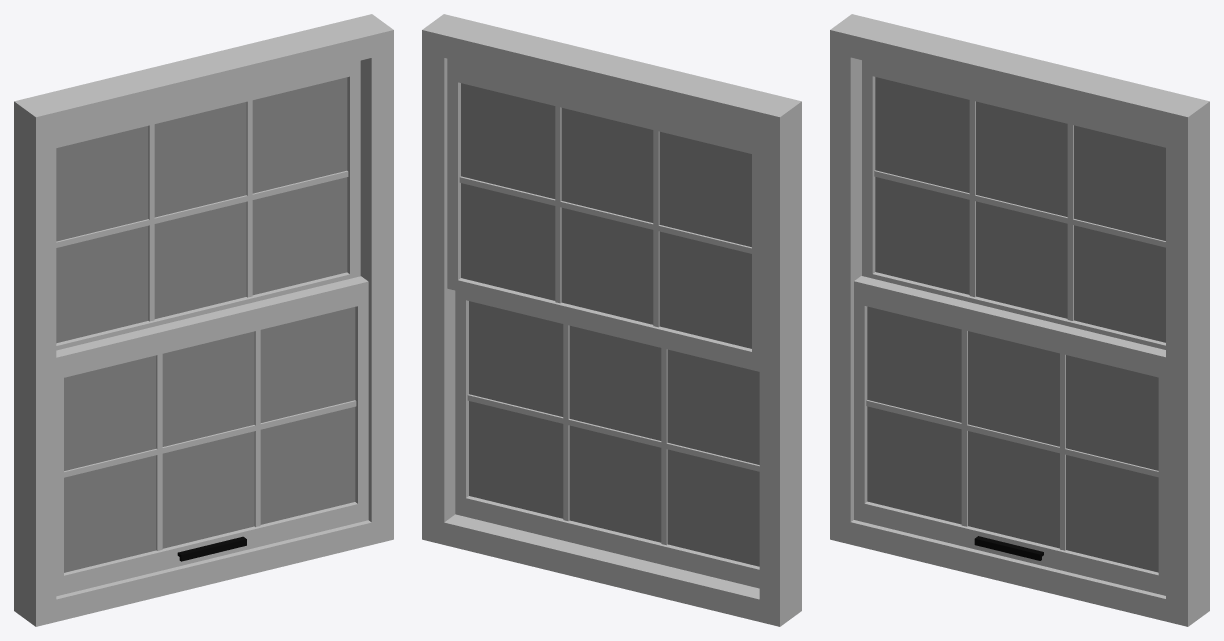
Rendered from Window 7.FBX.
The picture shows the model from 3 angles, left to right: view 1: azimuth 30°, elevation 25°; view 2: azimuth 150°, elevation 25°; view 3: azimuth 330°, elevation 25°; orthographic projection.
Parts seen in each view (by area): view 1: window B, window A, window frame; view 2: window A, window B, window frame; view 3: window B, window A, window frame.
Boxes of the visible parts, left/top/right/bottom form: window B: left=56, top=276, right=368, bottom=596; window A: left=56, top=60, right=360, bottom=350; window frame: left=14, top=14, right=393, bottom=626; window A: left=447, top=58, right=759, bottom=364; window B: left=455, top=290, right=759, bottom=588; window frame: left=422, top=14, right=801, bottom=626; window B: left=854, top=276, right=1165, bottom=595; window A: left=862, top=60, right=1165, bottom=349; window frame: left=830, top=14, right=1209, bottom=626.
Size of the model in its own units: 113 by 154 by 12.16.
